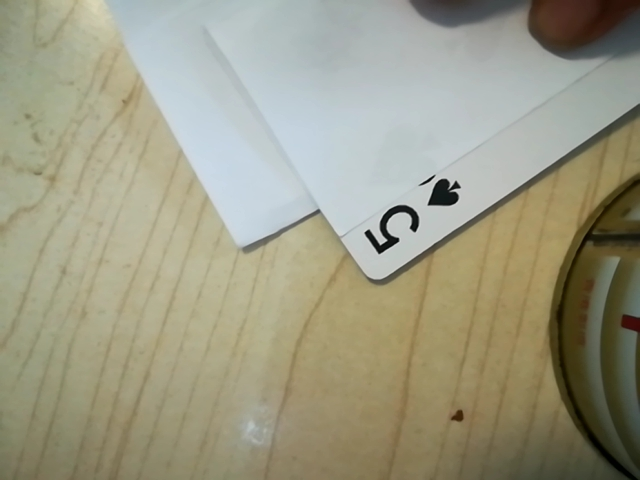ht 5: (355, 169, 477, 270)
